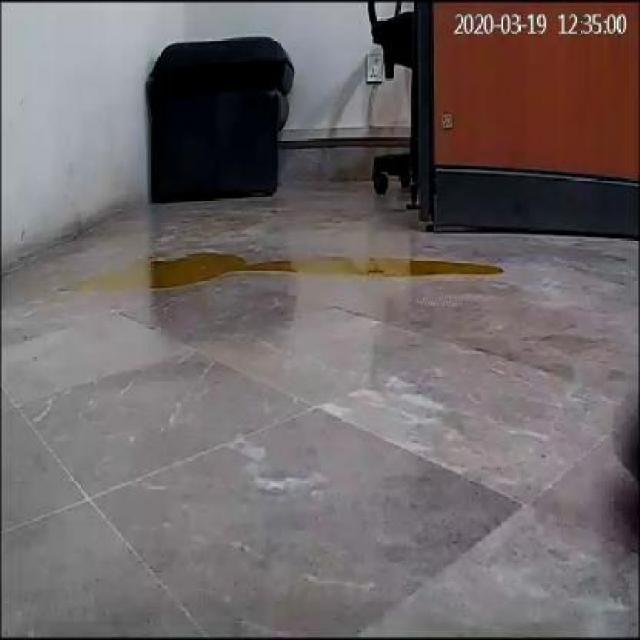spill: (69, 245, 514, 293)
